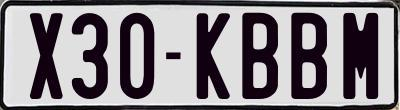0: (120, 10, 157, 99)
3: (70, 11, 111, 101)
B: (241, 12, 283, 102), (290, 12, 326, 102)
K: (196, 12, 230, 99)
M: (341, 13, 378, 103)
X: (28, 13, 67, 99)
